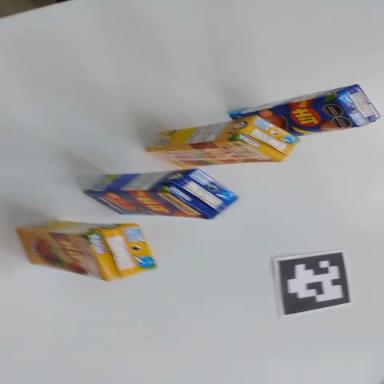HIT-MANGO: (229, 82, 381, 145), (82, 167, 238, 225)
HIT-MORA: (145, 114, 300, 170), (17, 221, 157, 282)
cara_F: (231, 92, 357, 148), (14, 228, 111, 281), (146, 137, 279, 170), (84, 189, 213, 219)
